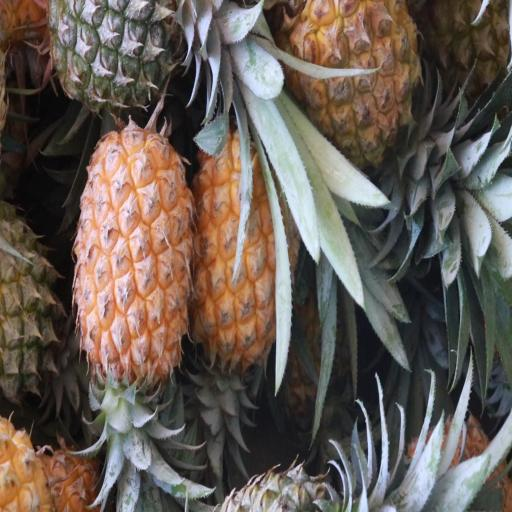Pineapple - v8 v1: (73, 129, 192, 371), (193, 138, 298, 362), (289, 0, 422, 160)
